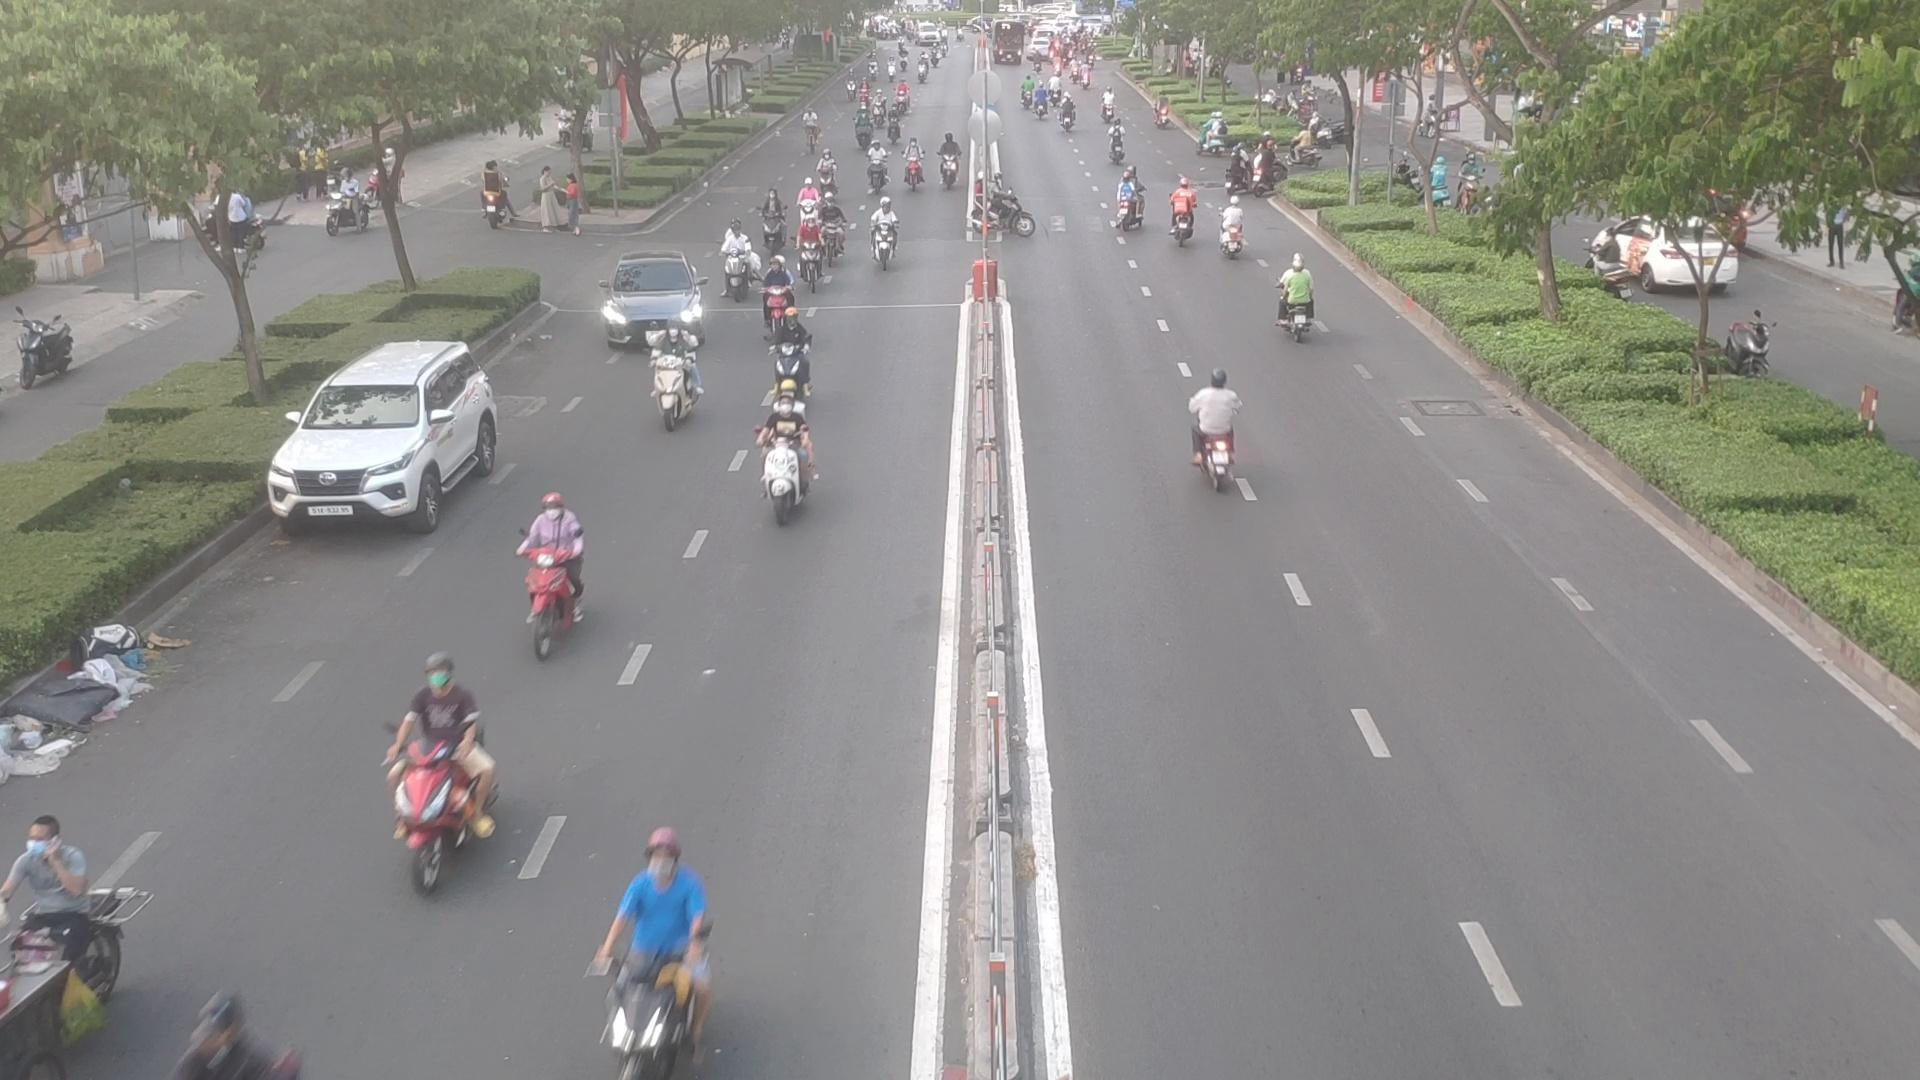car: (272, 342, 516, 533), (593, 257, 712, 351)
motorbike: (0, 829, 131, 1076), (584, 840, 719, 1077), (371, 670, 498, 884), (514, 496, 601, 646), (753, 404, 827, 526), (1185, 371, 1261, 489), (644, 343, 707, 427), (1269, 262, 1323, 340), (980, 189, 1043, 241), (795, 215, 833, 290), (717, 237, 760, 302), (757, 264, 796, 324), (1167, 185, 1203, 249), (866, 210, 903, 272), (754, 189, 790, 248), (812, 204, 851, 258), (1116, 175, 1150, 233), (936, 136, 968, 189), (1221, 207, 1253, 260), (905, 144, 931, 193), (816, 152, 841, 198), (865, 142, 890, 186), (798, 179, 820, 227)
